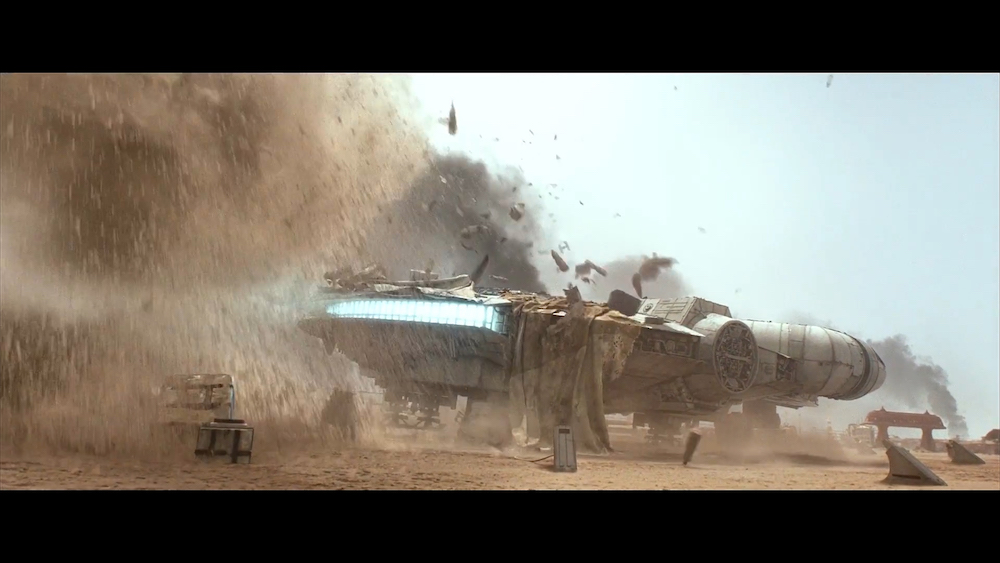Millennium Falcon: (296, 288, 886, 423)
Tie Fighter: (559, 242, 571, 254)
